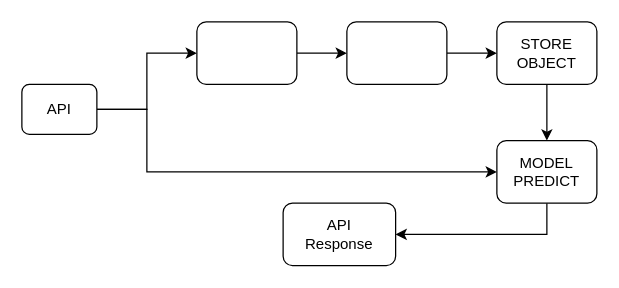
The diagram is 619 pixels wide and 288 high, and some of its shapes have lost their labels. The centre of each missing label's shape, as x and y in pixels:
"BD" belongs at (x=246, y=52).
"TRAIN MODEL" belongs at (x=396, y=52).
